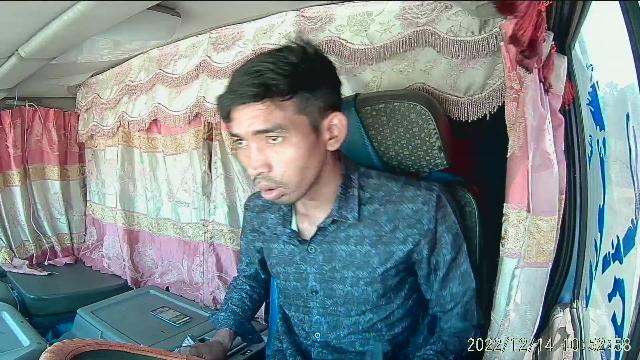PhoneUse: (148, 304, 194, 328)
SafeDriving: (257, 128, 290, 148), (227, 133, 253, 152)
